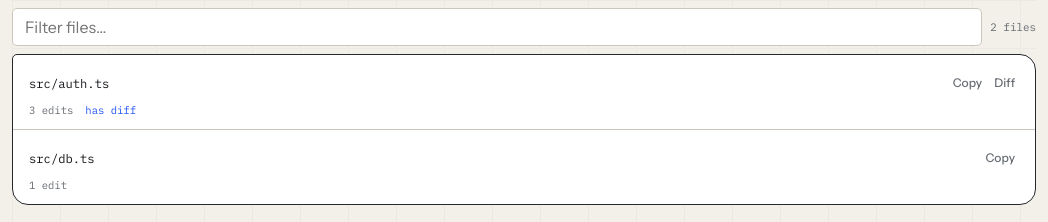
FilesTab › filter narrows the list
Expected: the text "src/auth.ts" is shown, [29,76,109,90]
Type "auth" into the search field at (497, 27), box [12,8,982,46]
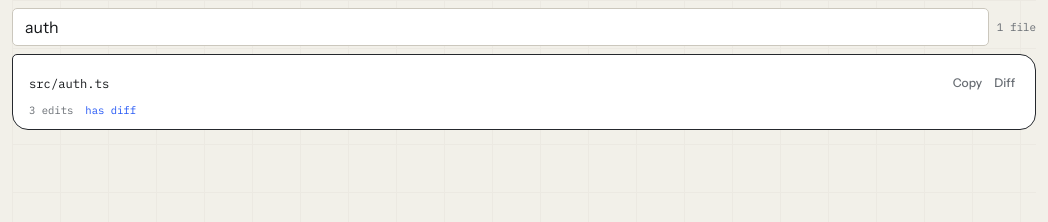
Expected: the text "src/auth.ts" is shown, [29,76,109,90]
Result: the text "src/db.ts" is gone
